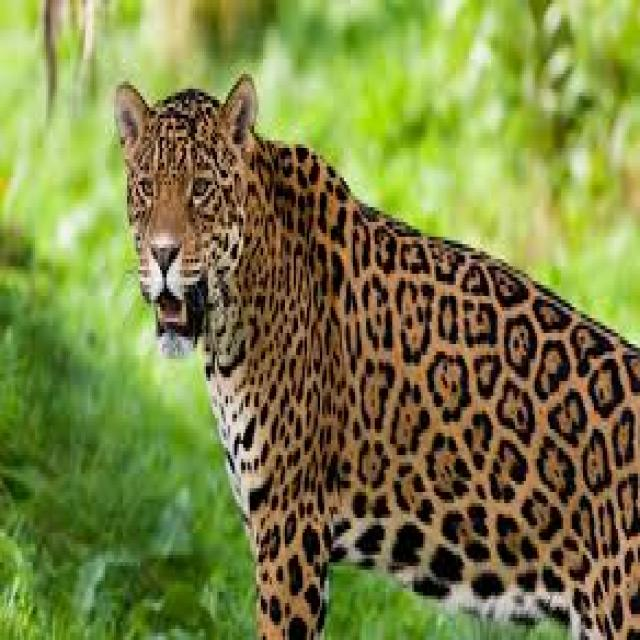Jaguar: (103, 52, 640, 640)
